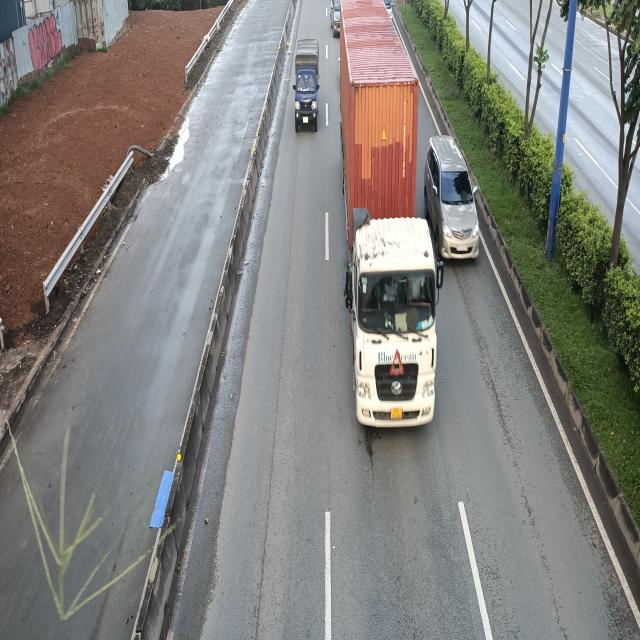car: (425, 136, 479, 265)
container: (342, 0, 446, 427)
truck: (290, 37, 319, 133)
